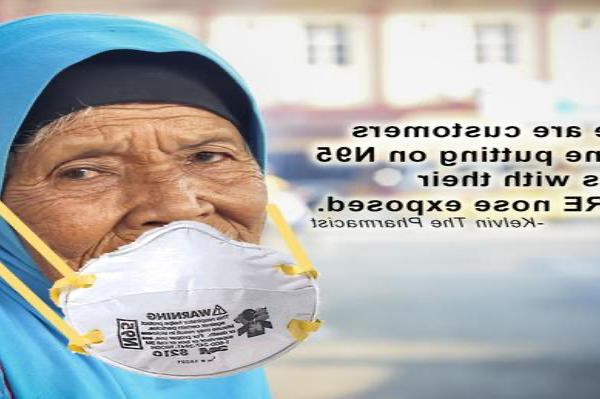mask_weared_incorrect: (13, 128, 270, 307)
